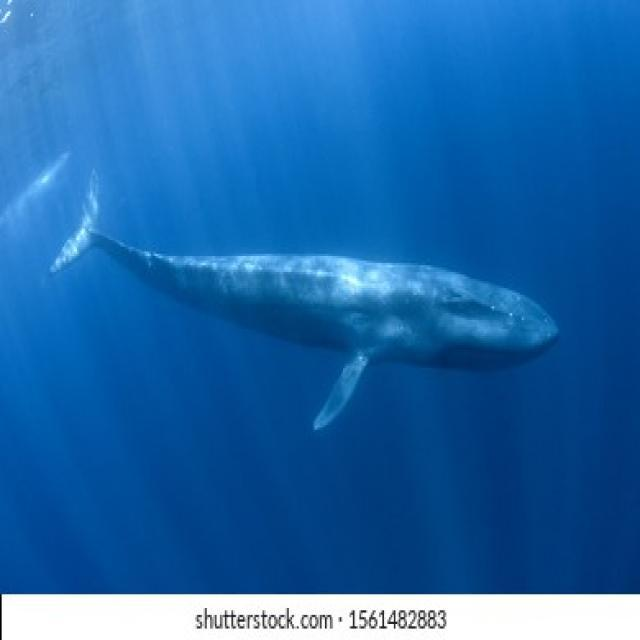blue_whale: (49, 183, 583, 496)
